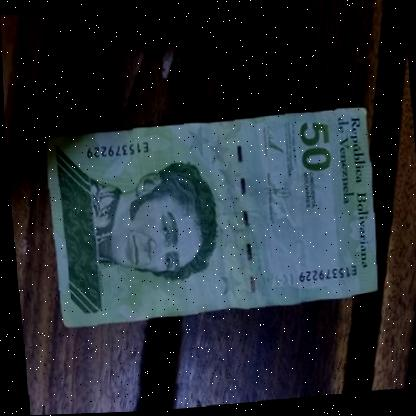fifty-front-vef: (44, 110, 379, 329)
